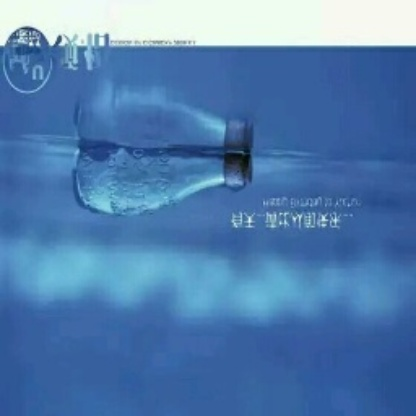bottle: (72, 140, 256, 215)
